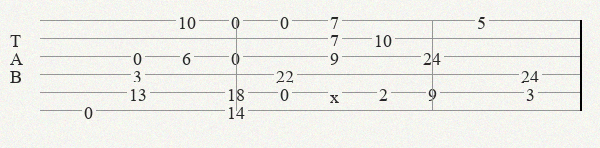0: (84, 102, 97, 118), (133, 48, 146, 64), (231, 48, 244, 64), (231, 12, 244, 28), (280, 12, 293, 28), (280, 84, 293, 100)
10: (178, 12, 200, 28), (374, 30, 396, 46)
13: (129, 84, 151, 100)
14: (227, 102, 249, 118)
18: (227, 84, 249, 100)
2: (379, 84, 392, 100)
22: (276, 66, 298, 82)
24: (423, 48, 445, 64), (521, 66, 543, 82)
3: (133, 66, 146, 82), (526, 84, 539, 100)
5: (477, 12, 490, 28)
6: (182, 48, 195, 64)
7: (330, 30, 343, 46), (330, 12, 343, 28)
9: (330, 48, 343, 64), (428, 84, 441, 100)
x: (330, 86, 343, 98)
